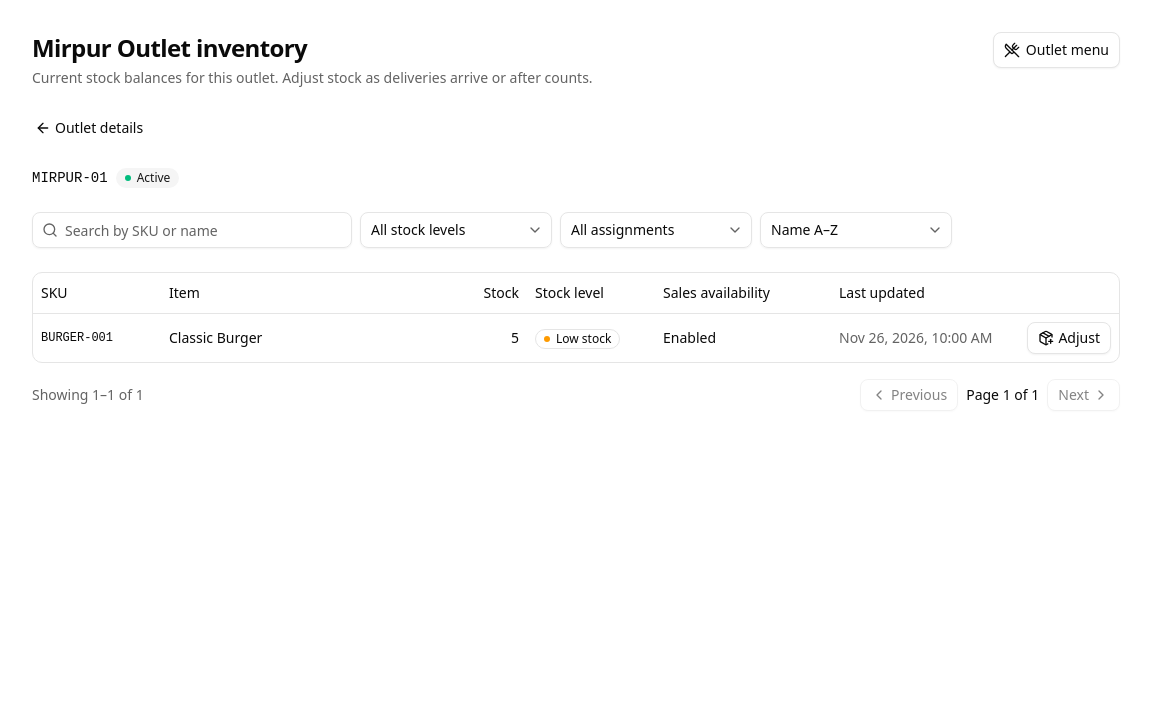
Adjusting stock › prevents known insufficient reductions and shows the resulting balance
This screenshot has width=1152, height=720.
Click the button with aria-label "Adjust stock for Classic Burger" at (1069, 338), box [1027, 322, 1111, 354]
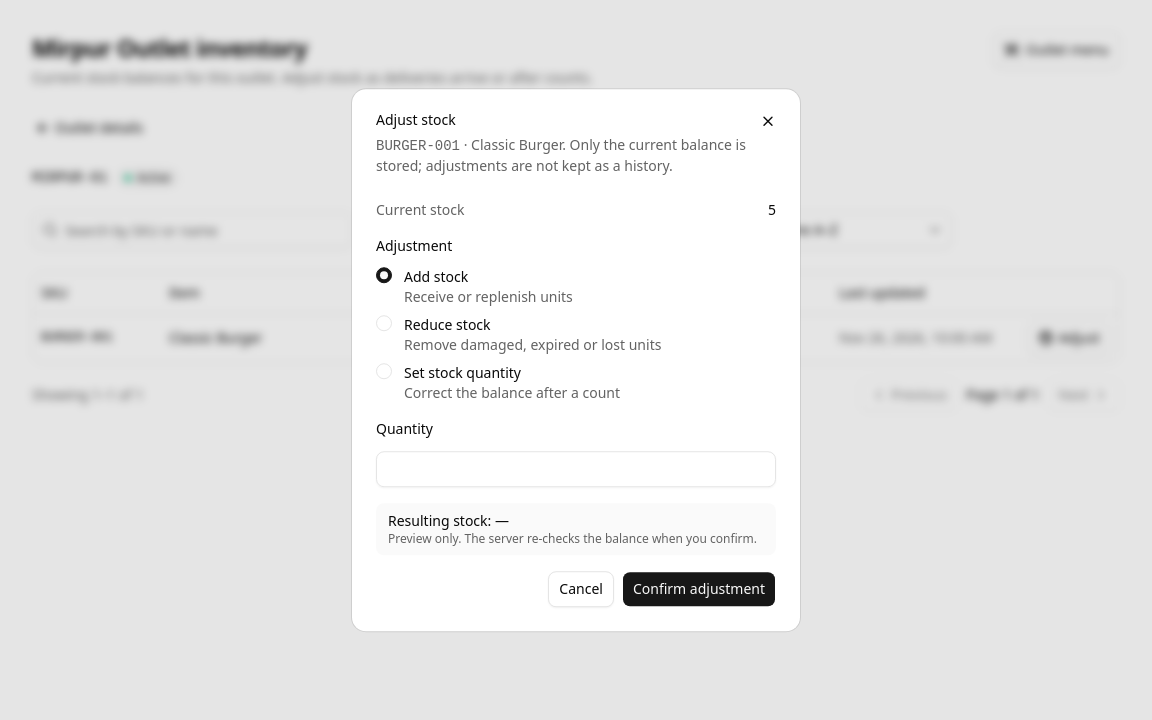
Click the radio button named "Reduce stock" next to "Reduce stock" at (384, 324), box [376, 316, 392, 332]
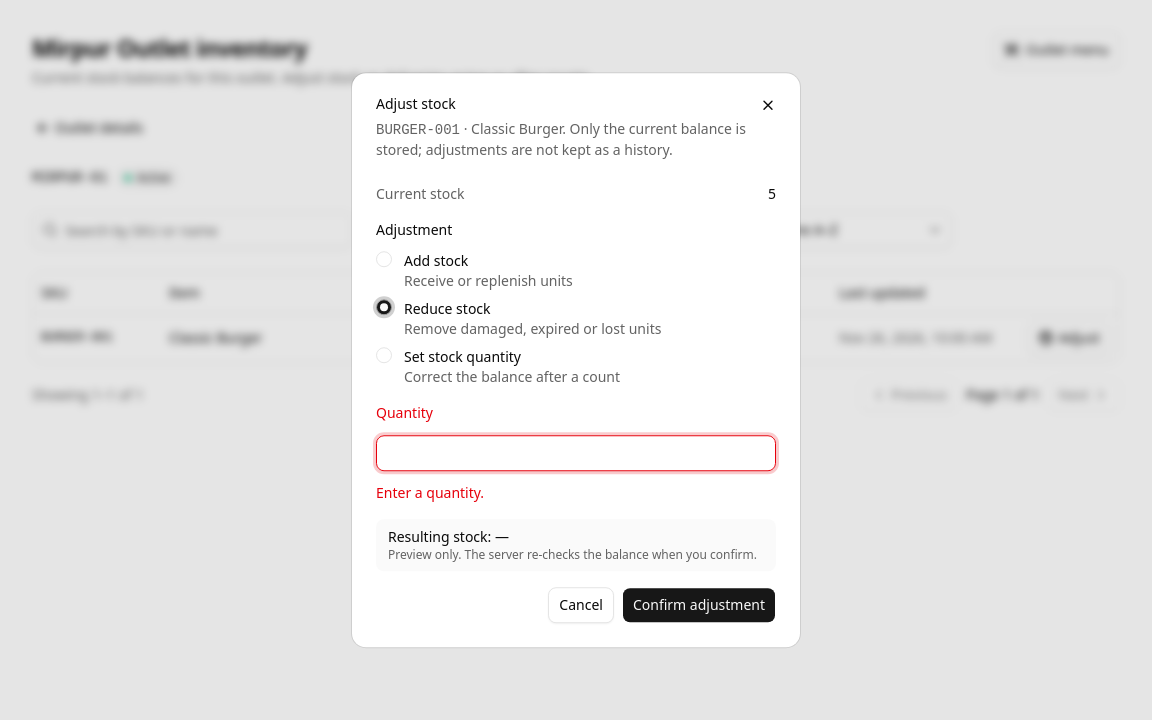
Type "7" into the field labelled "Quantity" at (576, 453), box [376, 435, 776, 471]
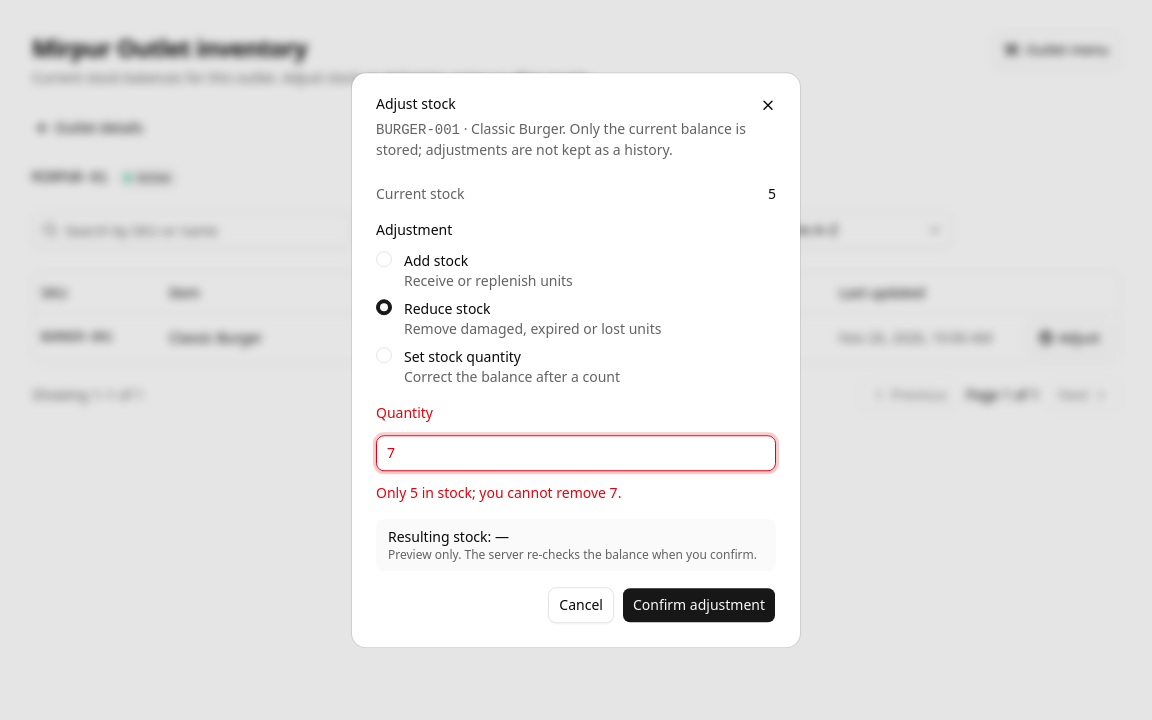
Expected: the text "Only 5 in stock; you cannot remove 7." is shown, [376, 483, 621, 502]
Replace the text in the field labelled "Quantity" with "5" at (576, 453), box [376, 435, 776, 471]
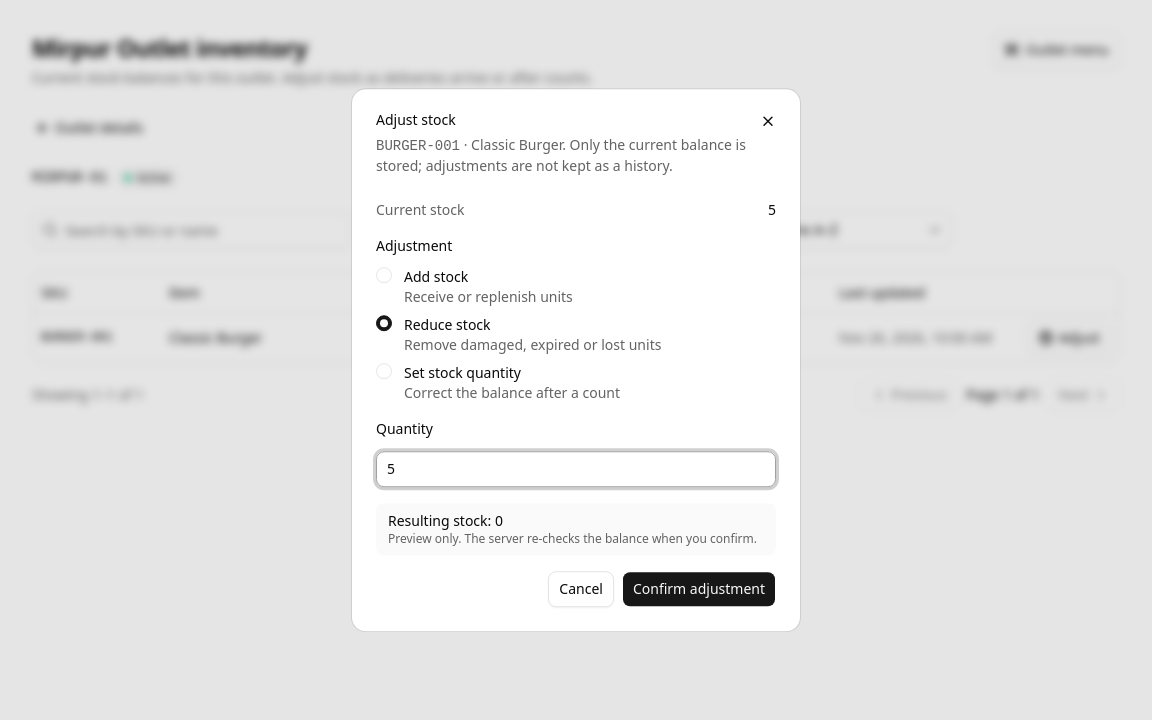
Expected: the text "Resulting stock" shows "0", [495, 511, 503, 530]
Click the button "Confirm adjustment" at (699, 589), box [622, 571, 776, 607]
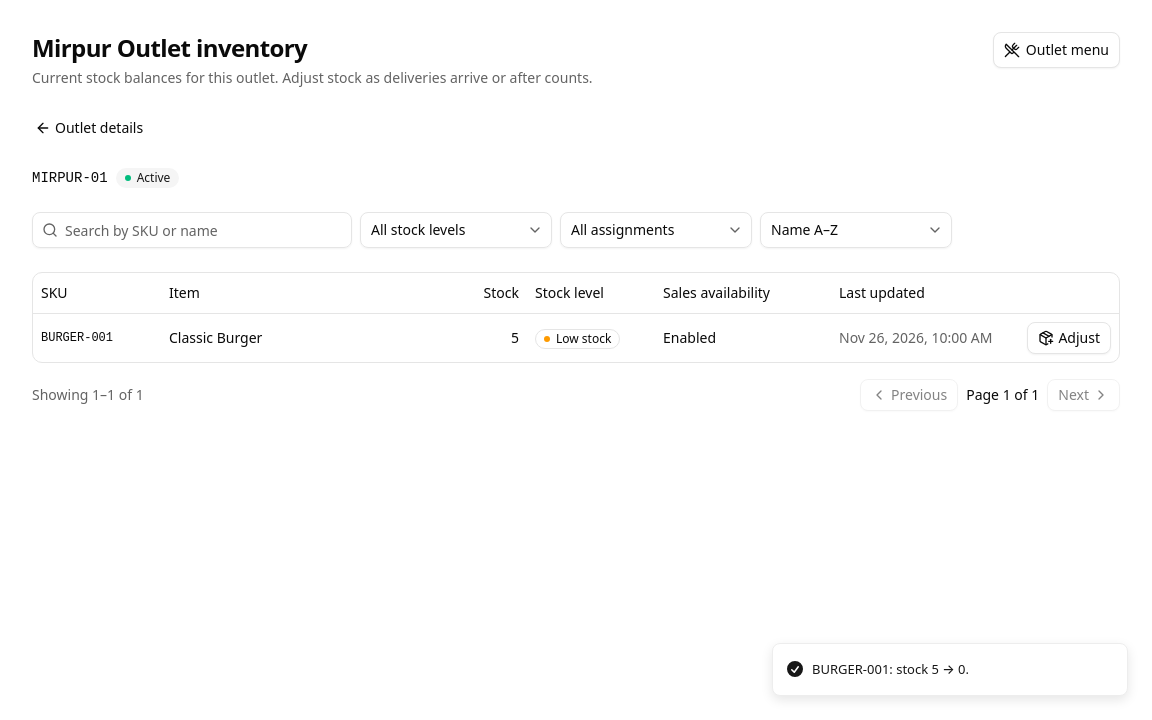
Expected: the text "BURGER-001: stock 5 → 0." is shown, [812, 660, 969, 679]
